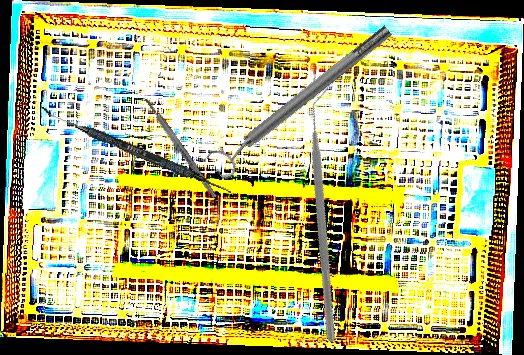Chopper: (208, 88, 450, 343)
Fixation Ring: (203, 17, 401, 183)
Scalpel Handle: (143, 96, 218, 200)
Spatula Surgical: (37, 106, 235, 196)
